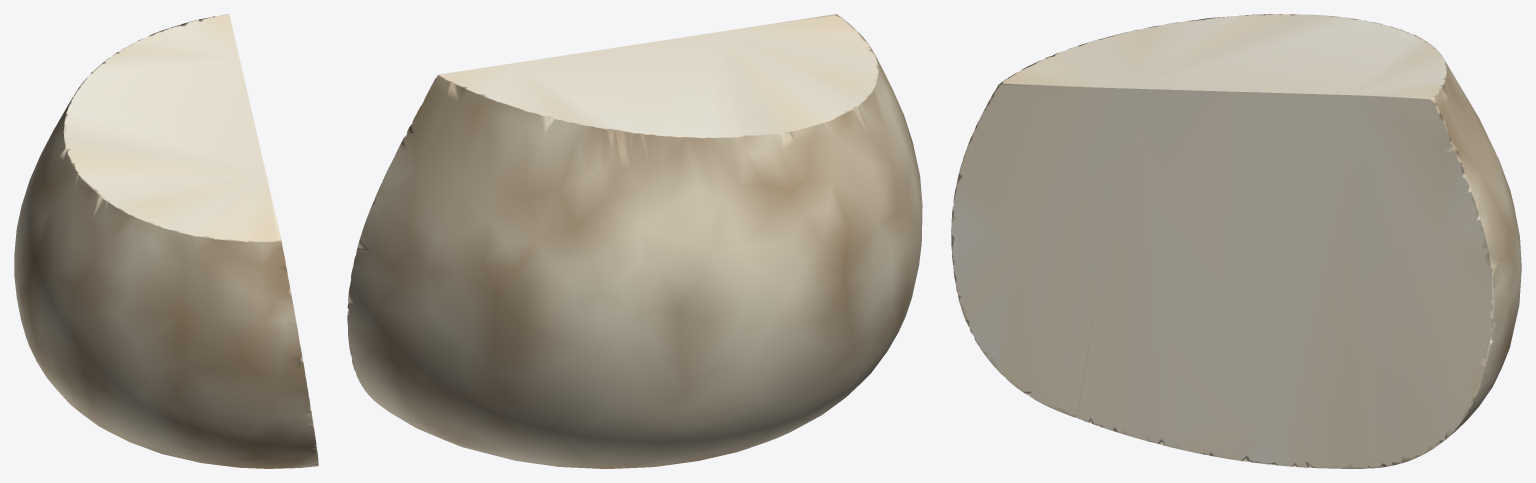
File: amanita-scout-bulb0.glb
3 views of the same model, side by side, from view 1: azimuth 30°, elevation 25°; view 2: azimuth 150°, elevation 25°; view 3: azimuth 270°, elevation 25° (orthographic). The views are drawn at different scales.
Visible parts, largest first — view 1: body; view 2: body; view 3: body.
Boxes of the visible parts, x1=… form: body: x1=14, y1=14, x2=318, y2=468; body: x1=347, y1=14, x2=922, y2=468; body: x1=951, y1=14, x2=1521, y2=468.
Size of the model in its own units: 0.4962 by 0.4747 by 0.6596.
